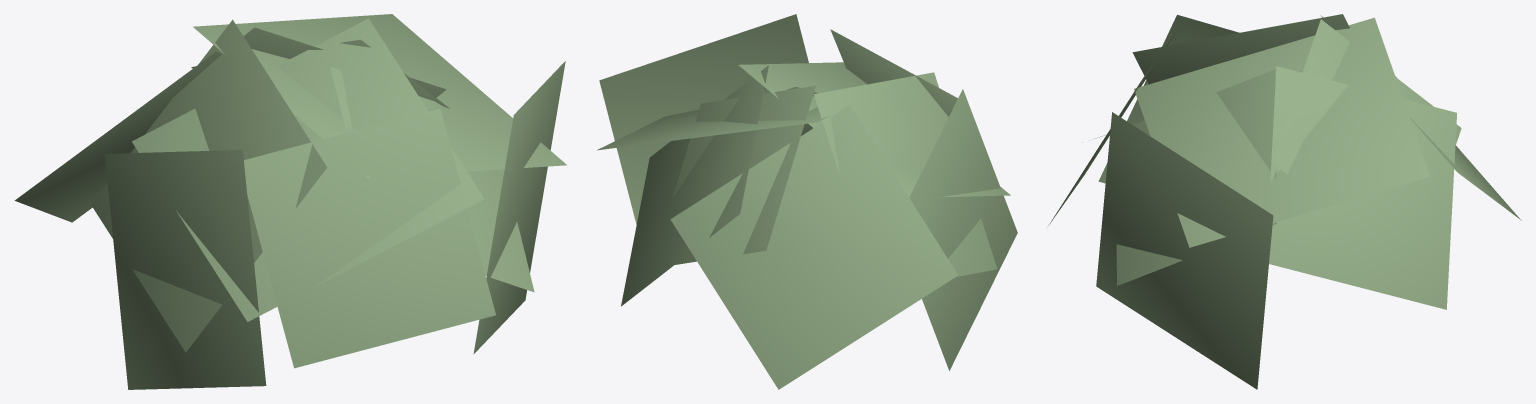
File: cover_fringe.glb
3 views of the same model, side by side, from view 1: azimuth 30°, elevation 25°; view 2: azimuth 150°, elevation 25°; view 3: azimuth 270°, elevation 25° (orthographic). The views are drawn at different scales.
Visible parts, largest first — view 1: cover_fringe; view 2: cover_fringe; view 3: cover_fringe.
Boxes of the visible parts, x1,y1,x2,y2 form: cover_fringe: (14, 14, 566, 389); cover_fringe: (597, 14, 1017, 389); cover_fringe: (1048, 14, 1521, 389).
Size of the model in its own units: 1.89 by 1.17 by 1.79.
